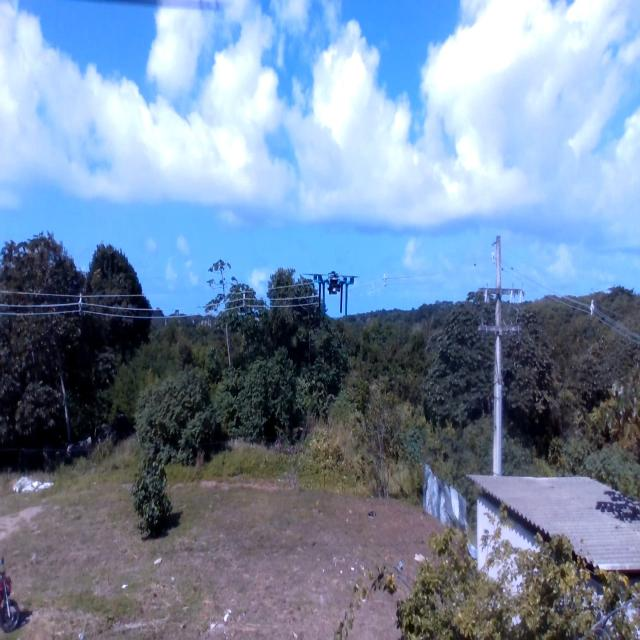-uav-: (301, 258, 362, 328)
